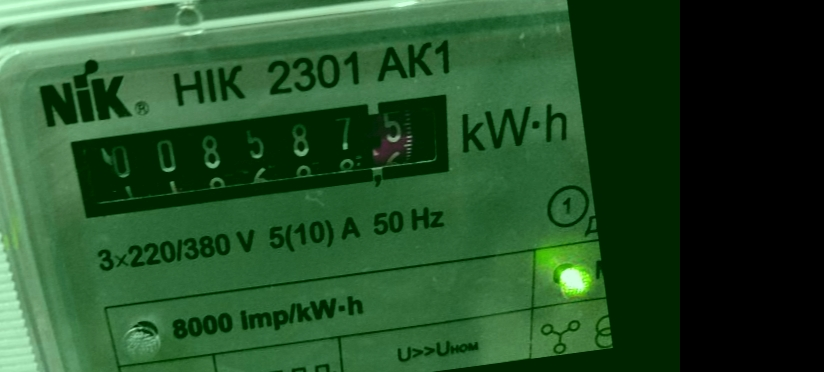0: (151, 132, 180, 175)
1: (105, 138, 134, 182)
5: (378, 103, 407, 146), (241, 121, 269, 162)
7: (329, 111, 357, 154)
8: (194, 128, 225, 172), (286, 117, 312, 160)
screen: (47, 69, 477, 242)
